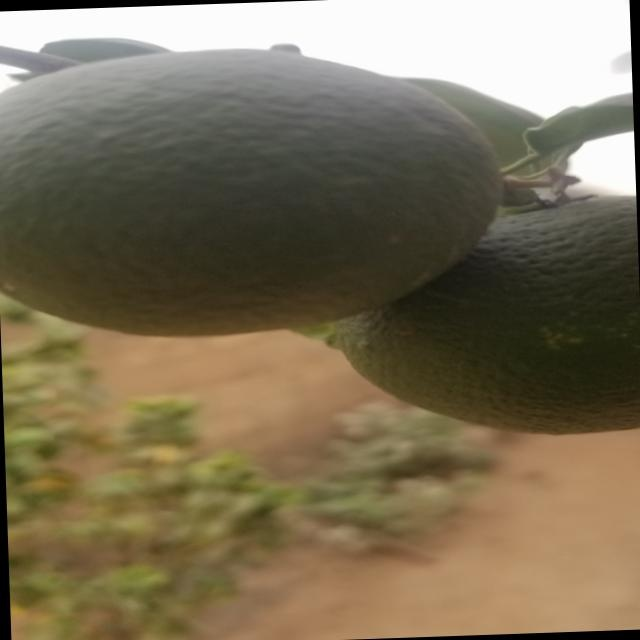agrume: (0, 39, 500, 336), (319, 193, 640, 439)
